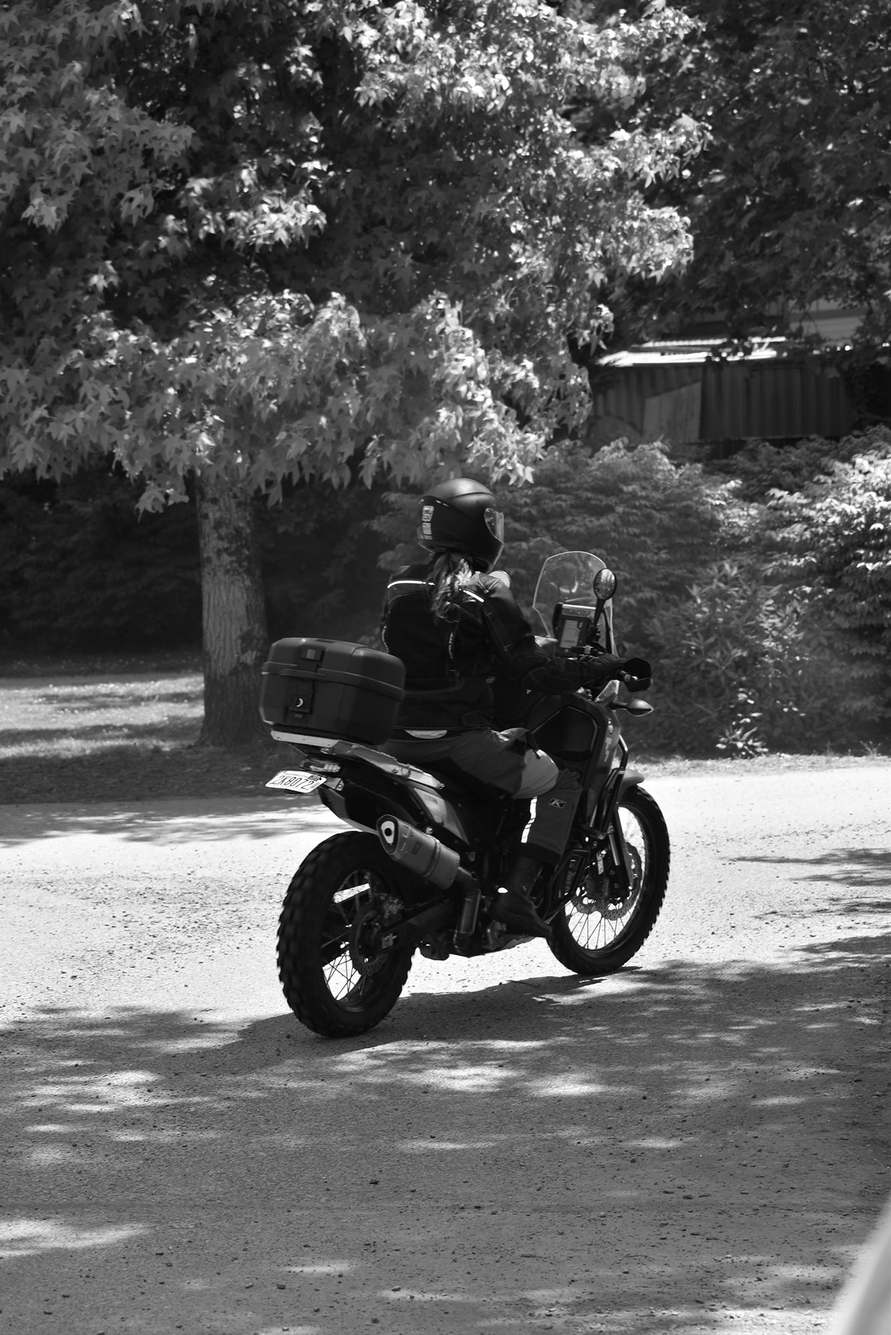helmet: (415, 476, 505, 578)
